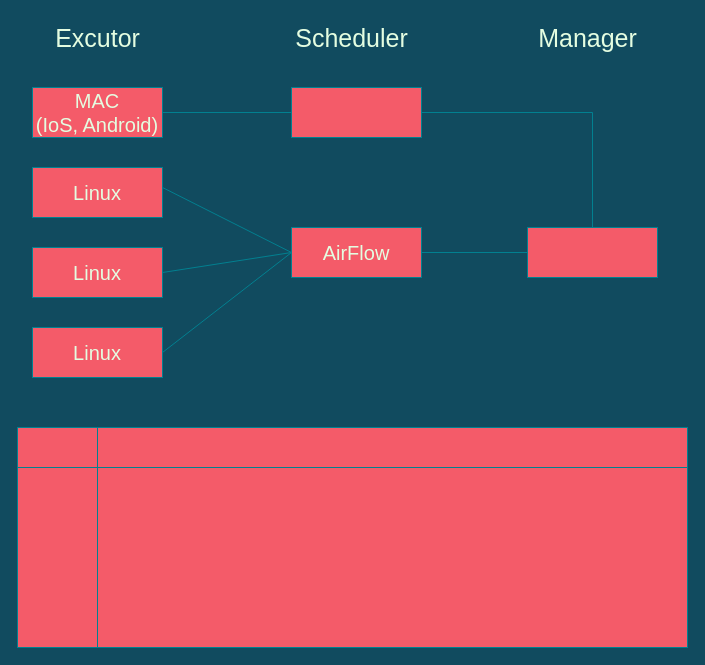
This 705x665 diagram has some shape labels left out. The centre of each missing label's shape, as x and y in pixels:
"GitLab" belongs at [592,252].
"Runner" belongs at [356,112].
